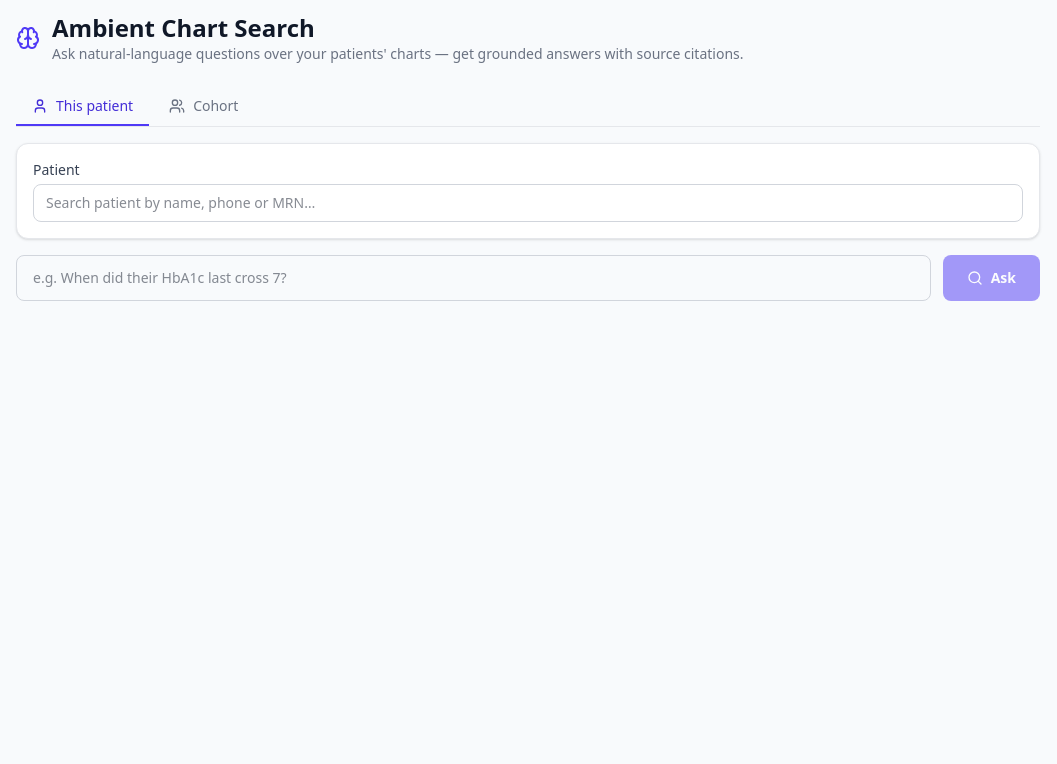
Test: Ambient Chart Search dashboard page › posts to /ai/chart-search/patient/:id and renders answer + citation chips + hits
This screenshot has width=1057, height=764.
Type "Asha" into the field with placeholder "Search patient by name, phone or MRN…" at {"x": 528, "y": 203}, box x1=33 y1=184 x2=1023 y2=222
Wait 350 ms
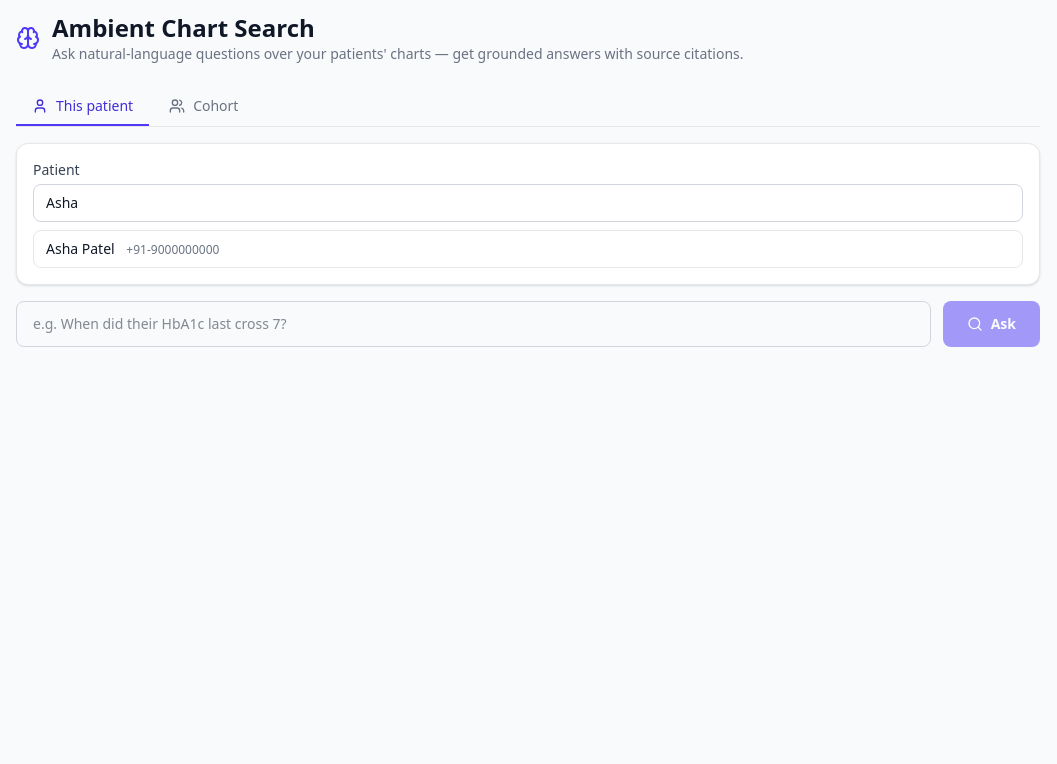
Click the button "Asha Patel +91-9000000000" at {"x": 80, "y": 248}, box x1=34 y1=231 x2=1022 y2=267
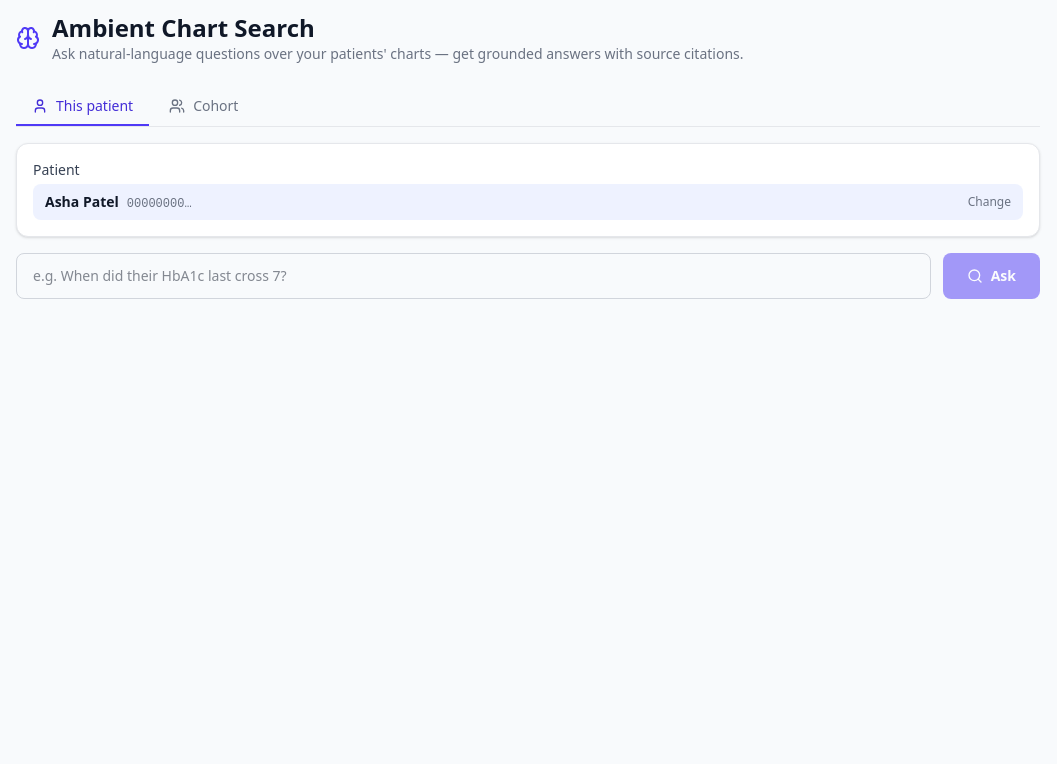
Type "When did HbA1c last cross 7?" into the field with placeholder "e.g. When did their HbA1c last cross 7?" at {"x": 473, "y": 276}, box x1=16 y1=253 x2=931 y2=299
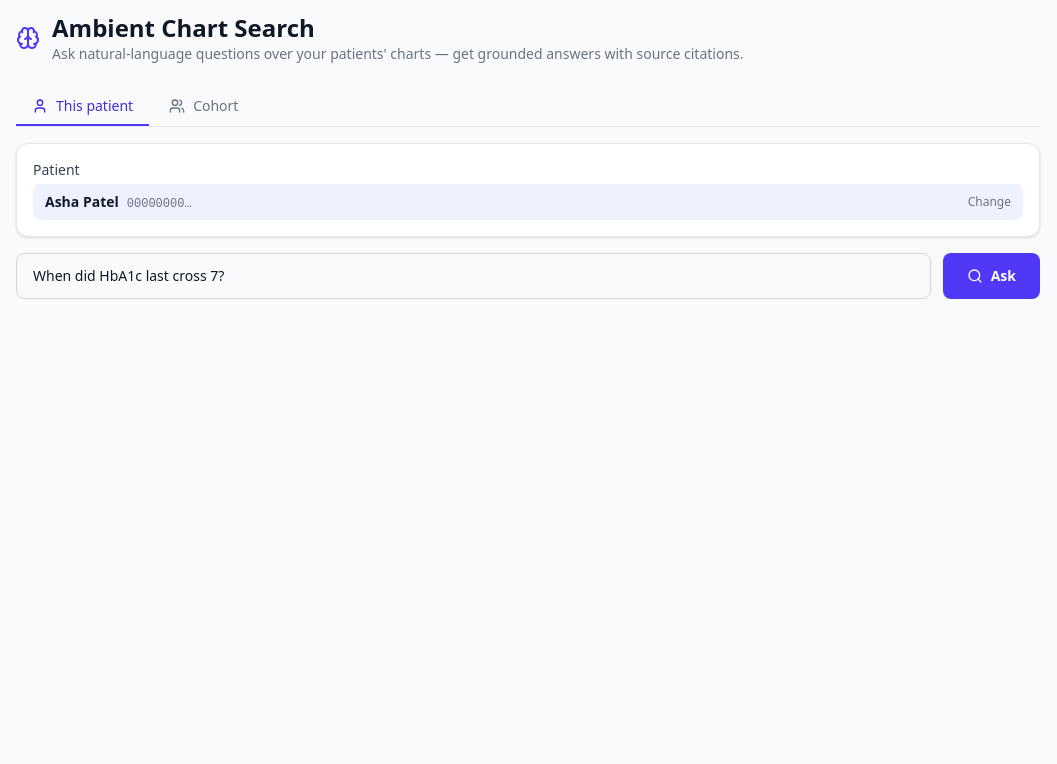
Click the button "Ask" at {"x": 991, "y": 276}, box x1=943 y1=253 x2=1040 y2=299
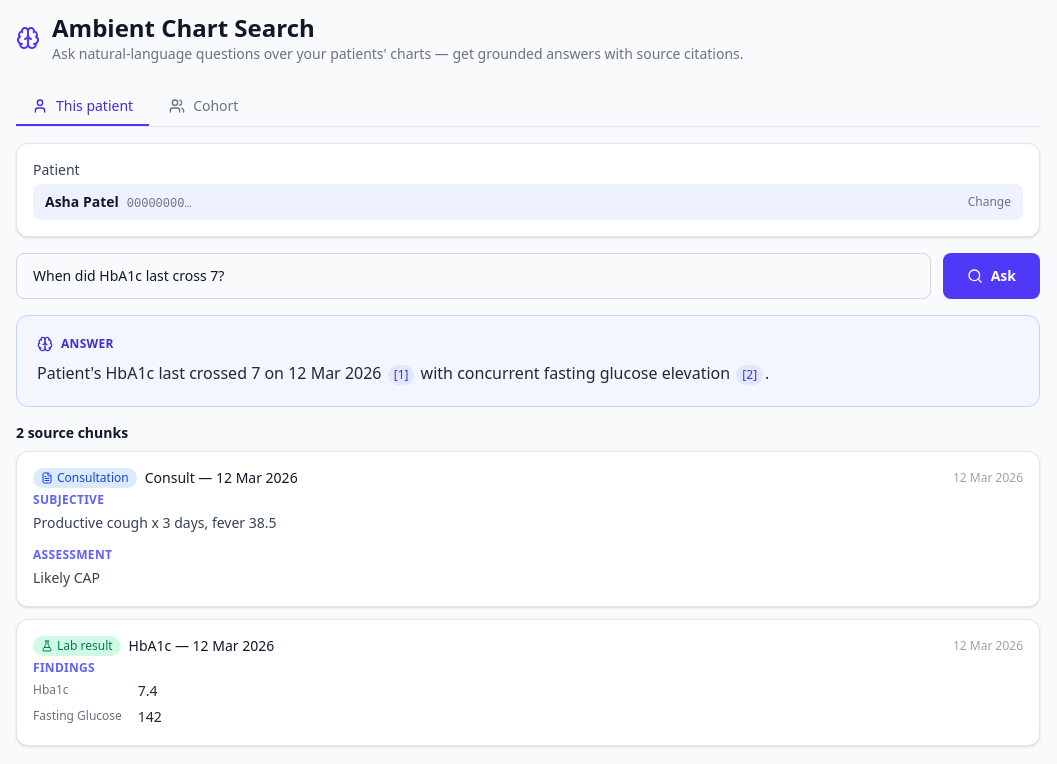
Result: the text "Patient's HbA1c last crossed 7 on 12 Mar 2026" is shown at x1=37 y1=362 x2=386 y2=384
Result: the button "[1]" is shown at x1=388 y1=365 x2=414 y2=385
Result: the button "[2]" is shown at x1=736 y1=365 x2=763 y2=385
